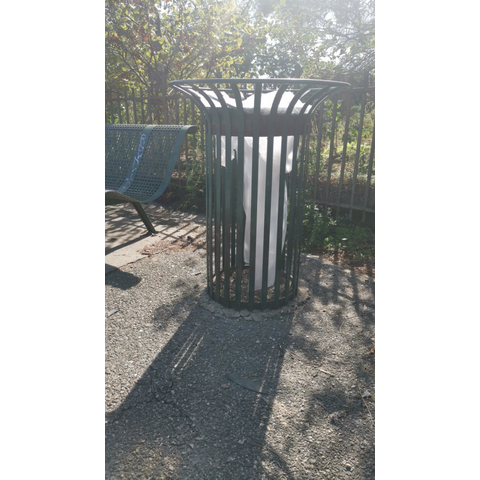poubelle: (162, 68, 353, 316)
